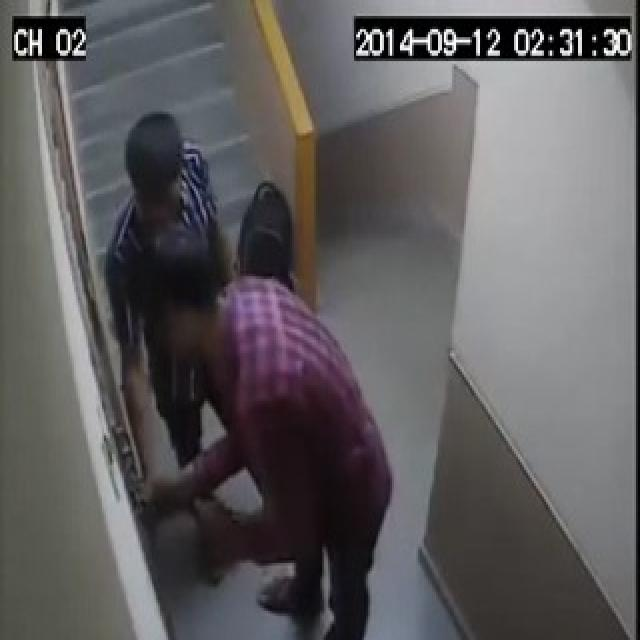thief: (100, 103, 398, 640)
